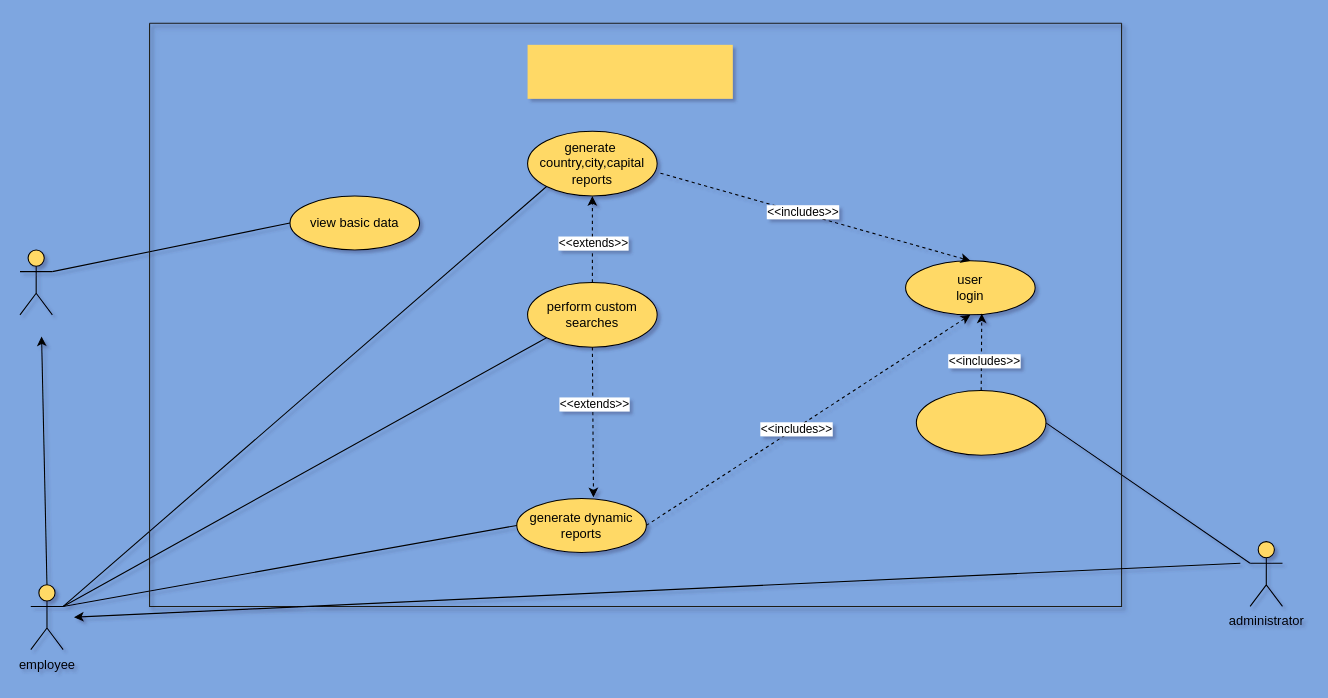
Some shapes in this 1328 by 698 pixel diagram are drawn without their labels. Here are the shapes that lost their labels. From the top down, the centre of each, then its label:
(629,71): POPULATION DATABASE SITE
(35,282): guest
(980,422): manage data
